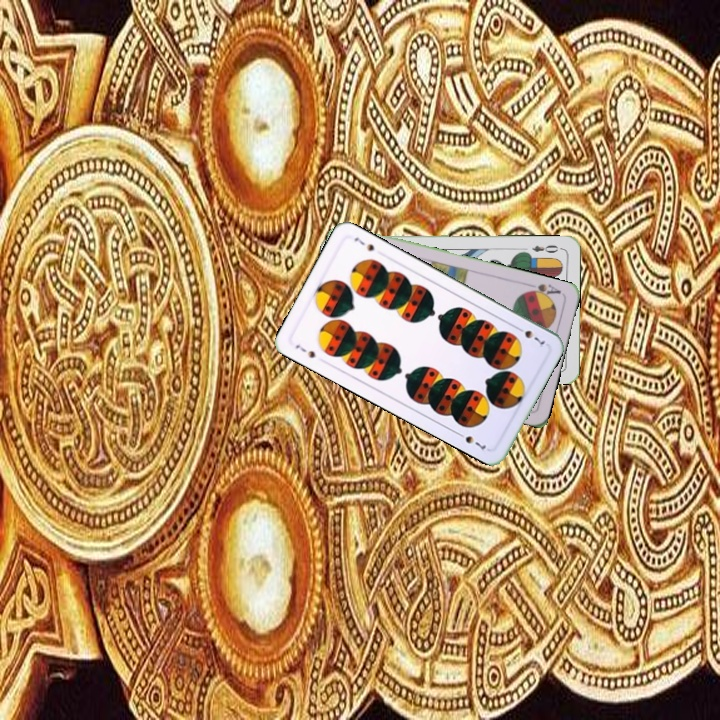EO: (528, 241, 561, 256)
S7: (512, 322, 548, 350), (291, 340, 318, 361)
SA: (523, 279, 563, 302)
